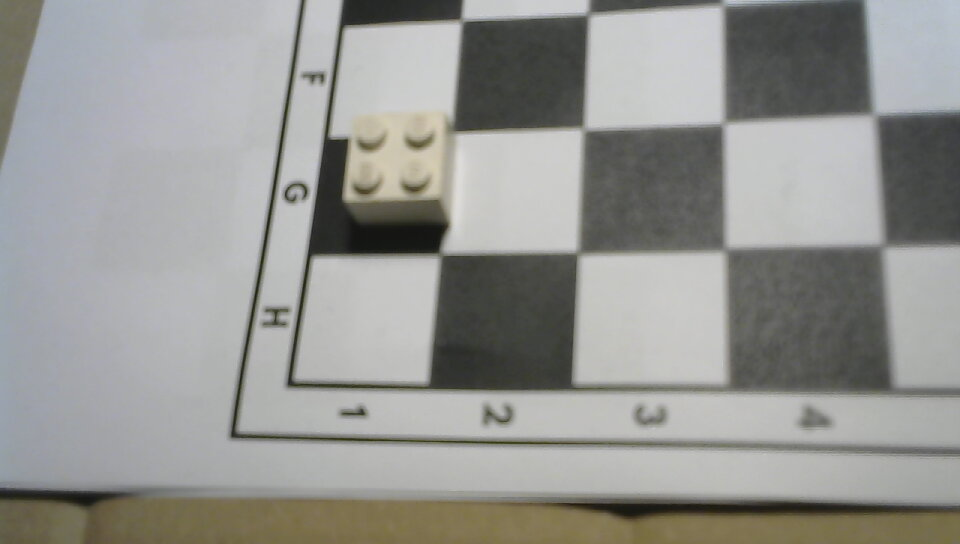wp: (336, 100, 468, 238)
